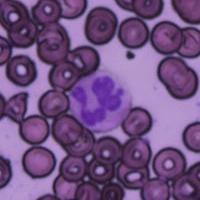N: (69, 69, 132, 134)
